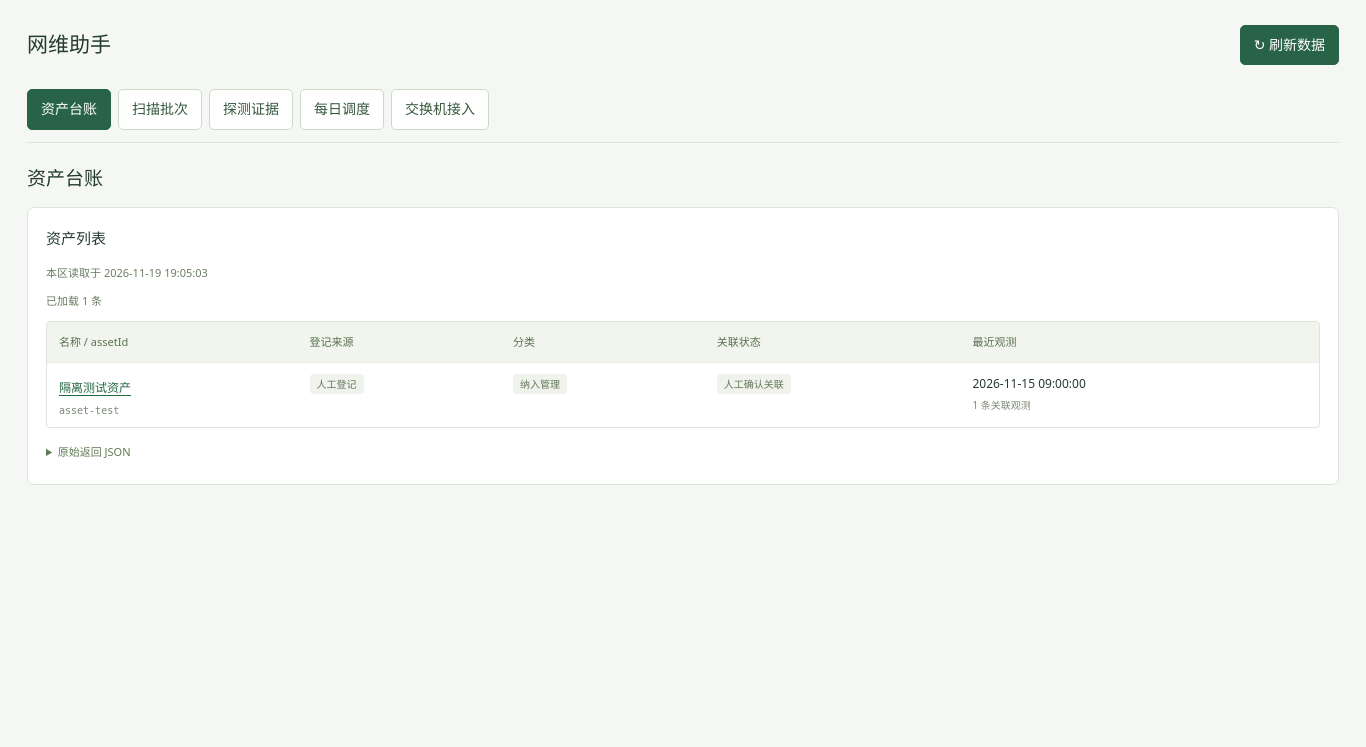
Test: 最小工作台真实读取语义（隔离响应） › 应用筛选重置分页，修改输入但未应用时不偷换查询条件
The image size is (1366, 747).
Check: the button with aria-label "查看 隔离测试资产" is shown, box [59, 374, 131, 401]
Click the button "探测证据" at (251, 110), box [209, 89, 293, 130]
(page scrolled)
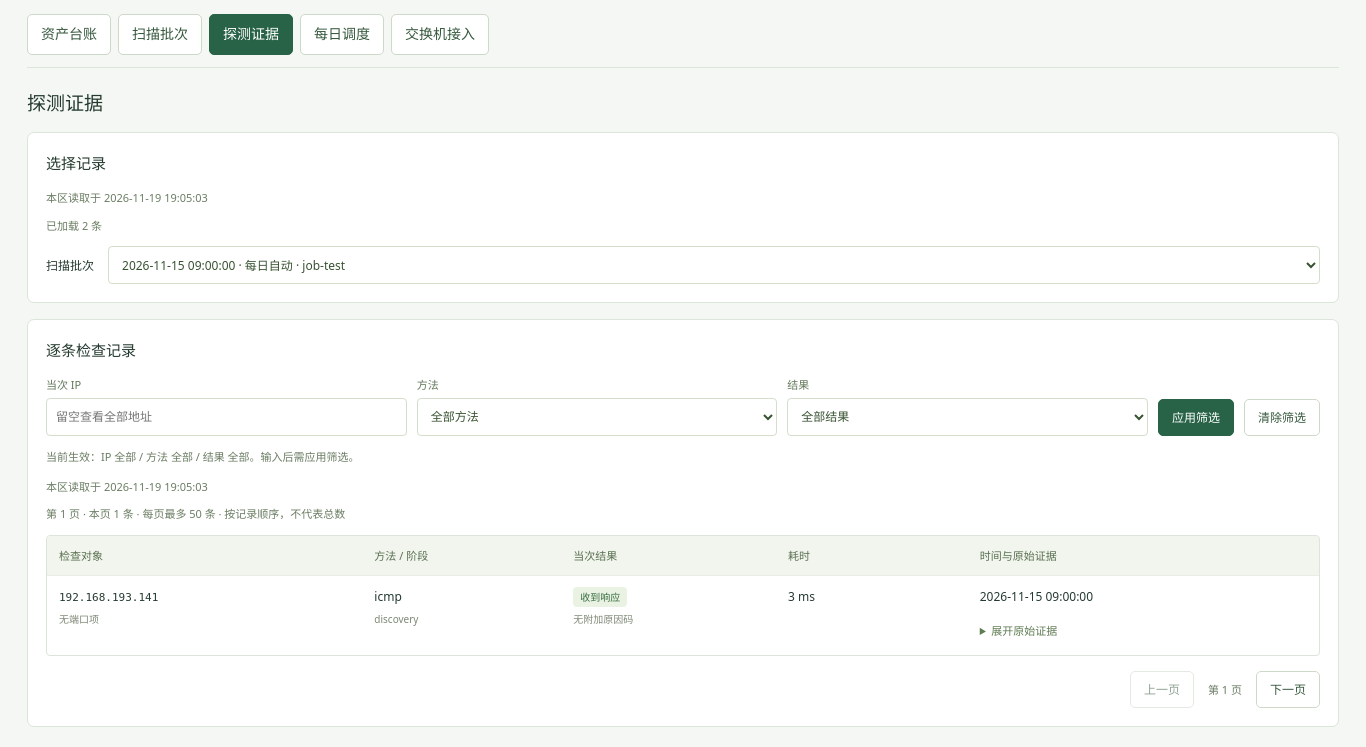
Check: the button "下一页" is enabled
Click the button "下一页" at (1288, 690), box [1256, 671, 1320, 708]
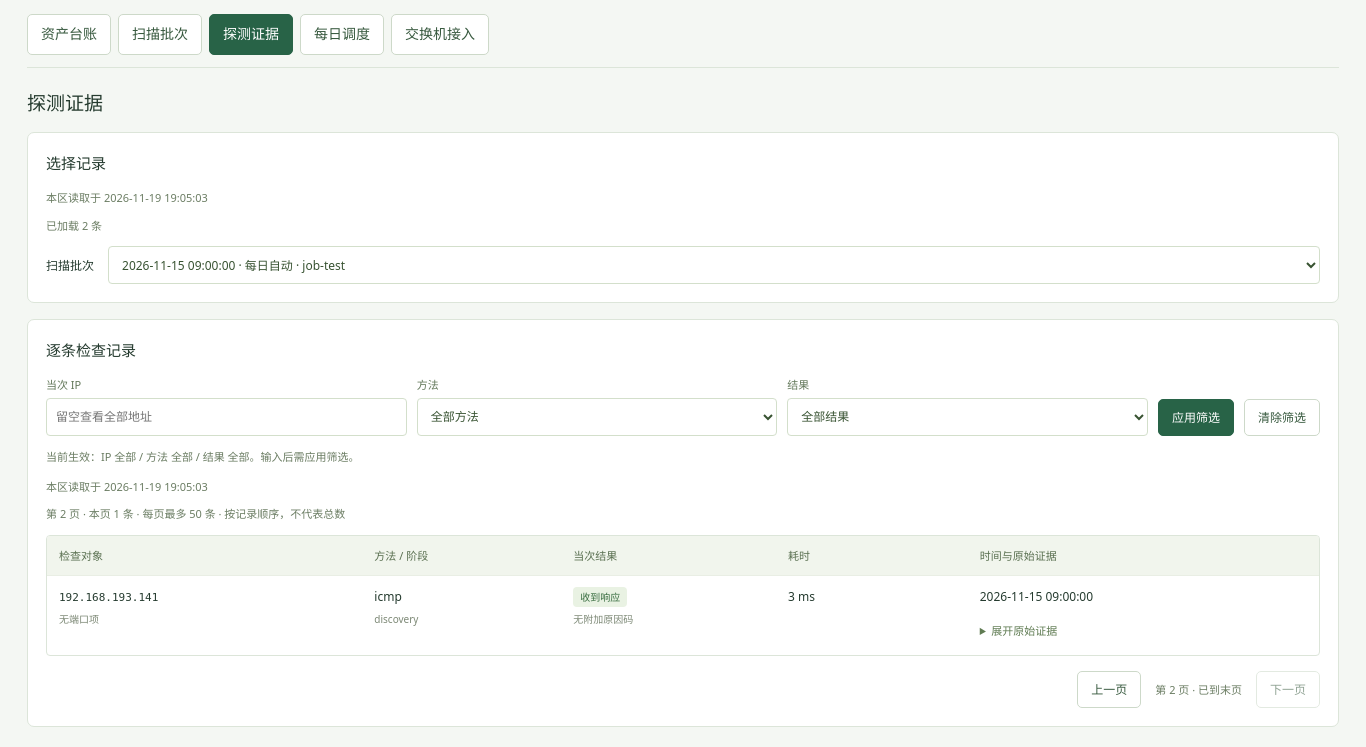
Check: the button "上一页" is enabled, box [1077, 671, 1141, 708]
Type "192.168.193.147" into the field labelled "当次 IP" at (226, 417), box [46, 398, 407, 436]
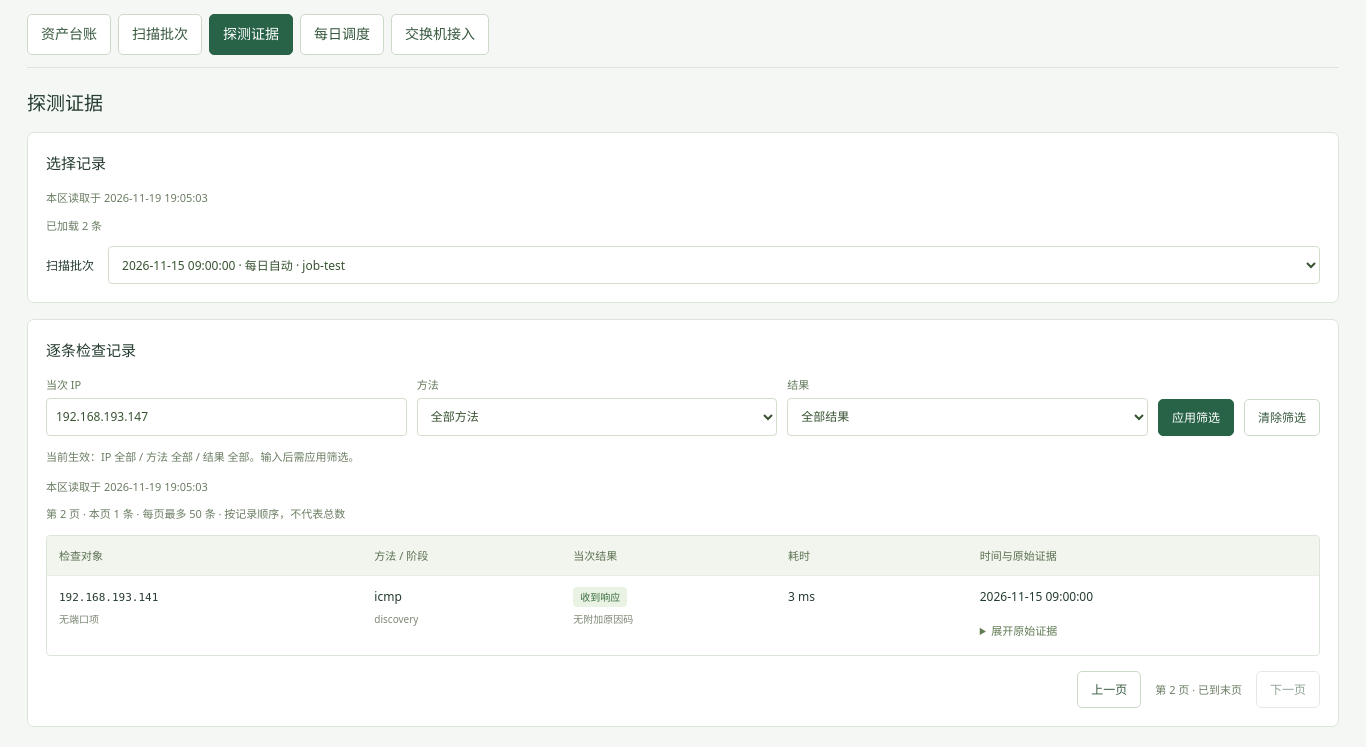
Click the button "应用筛选" at (1196, 417), box [1158, 399, 1234, 436]
(page scrolled)
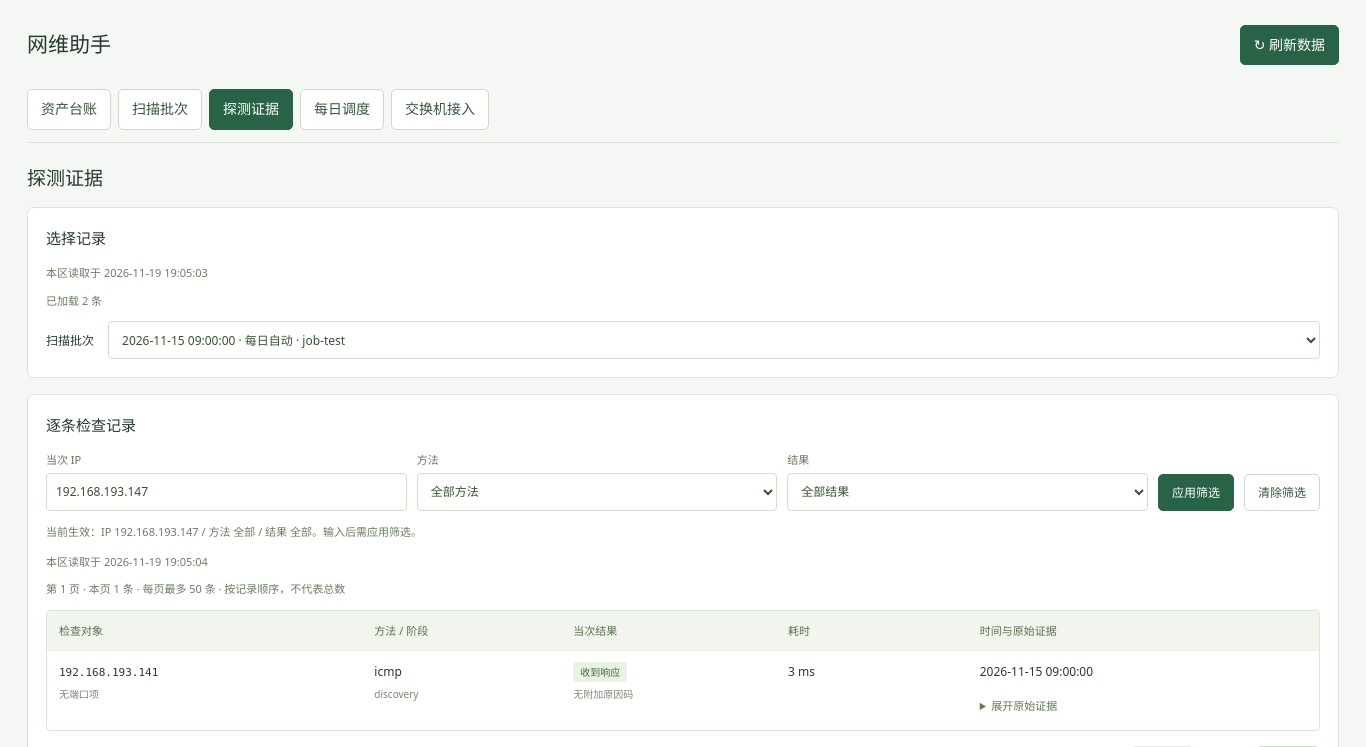
Check: the text "当前生效：IP 192.168.193.147 / 方法 全部 / 结果 全部。输入后需应用筛选。" is shown, box [46, 524, 422, 539]
